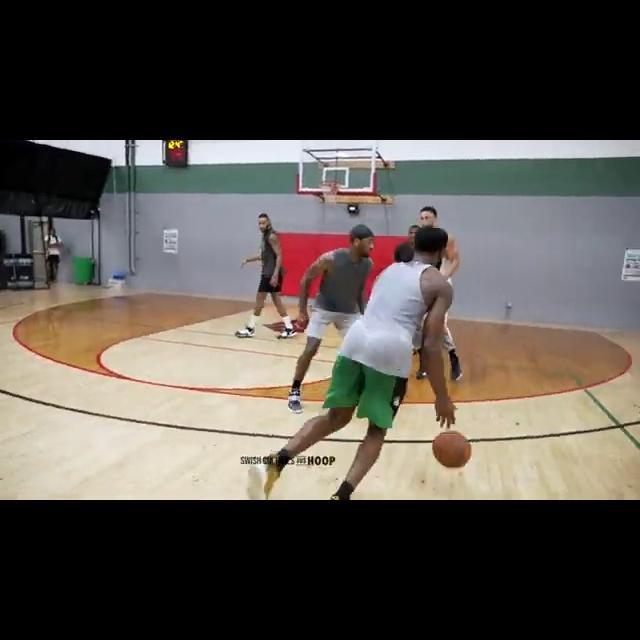basketball: (430, 429, 474, 469)
hoop: (321, 179, 343, 208)
person: (246, 227, 458, 500), (285, 224, 373, 415), (409, 205, 466, 382), (231, 213, 302, 343), (43, 228, 65, 286), (405, 224, 422, 247)
